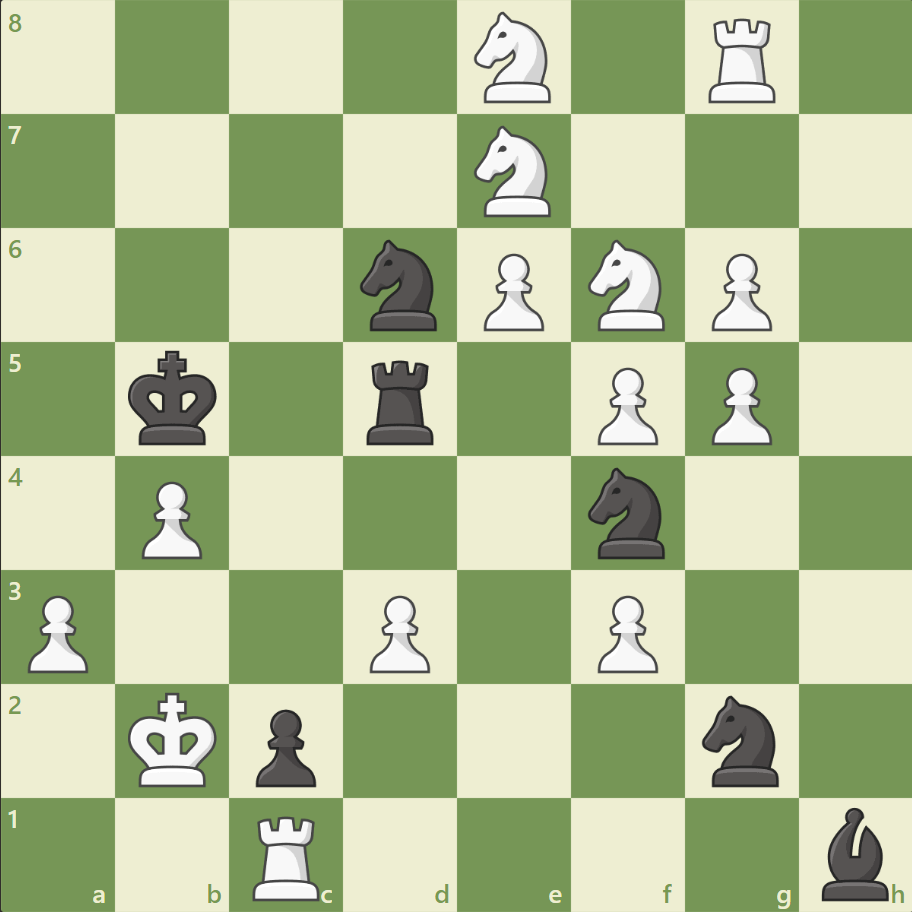K: (124, 685, 224, 793)
N: (465, 7, 562, 110), (579, 234, 676, 337), (465, 121, 562, 223)
P: (474, 246, 549, 337), (701, 246, 776, 337), (701, 359, 776, 450), (133, 473, 208, 564), (20, 586, 95, 677), (588, 359, 662, 450), (361, 586, 435, 677), (588, 586, 662, 677)
R: (246, 806, 329, 904), (700, 12, 783, 109)
b: (812, 801, 896, 904)
k: (124, 344, 224, 452)
n: (351, 234, 449, 337), (579, 461, 676, 564), (692, 688, 789, 791)
p: (247, 700, 322, 791)
r: (360, 352, 442, 449)
